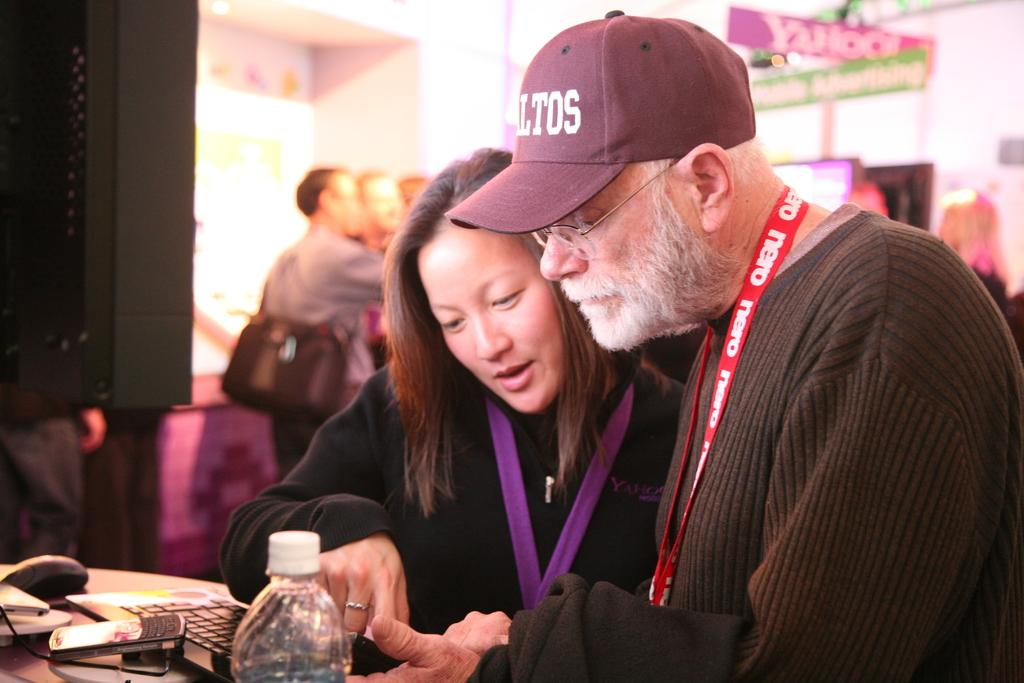Hat: (443, 2, 758, 235)
